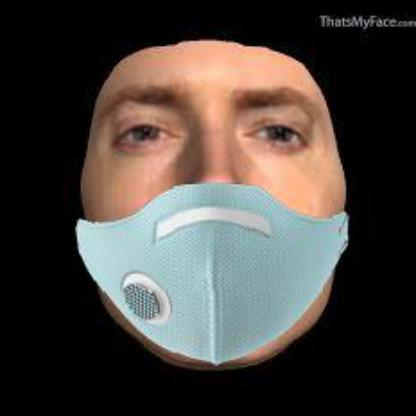FFP Mask: (74, 42, 357, 356)
